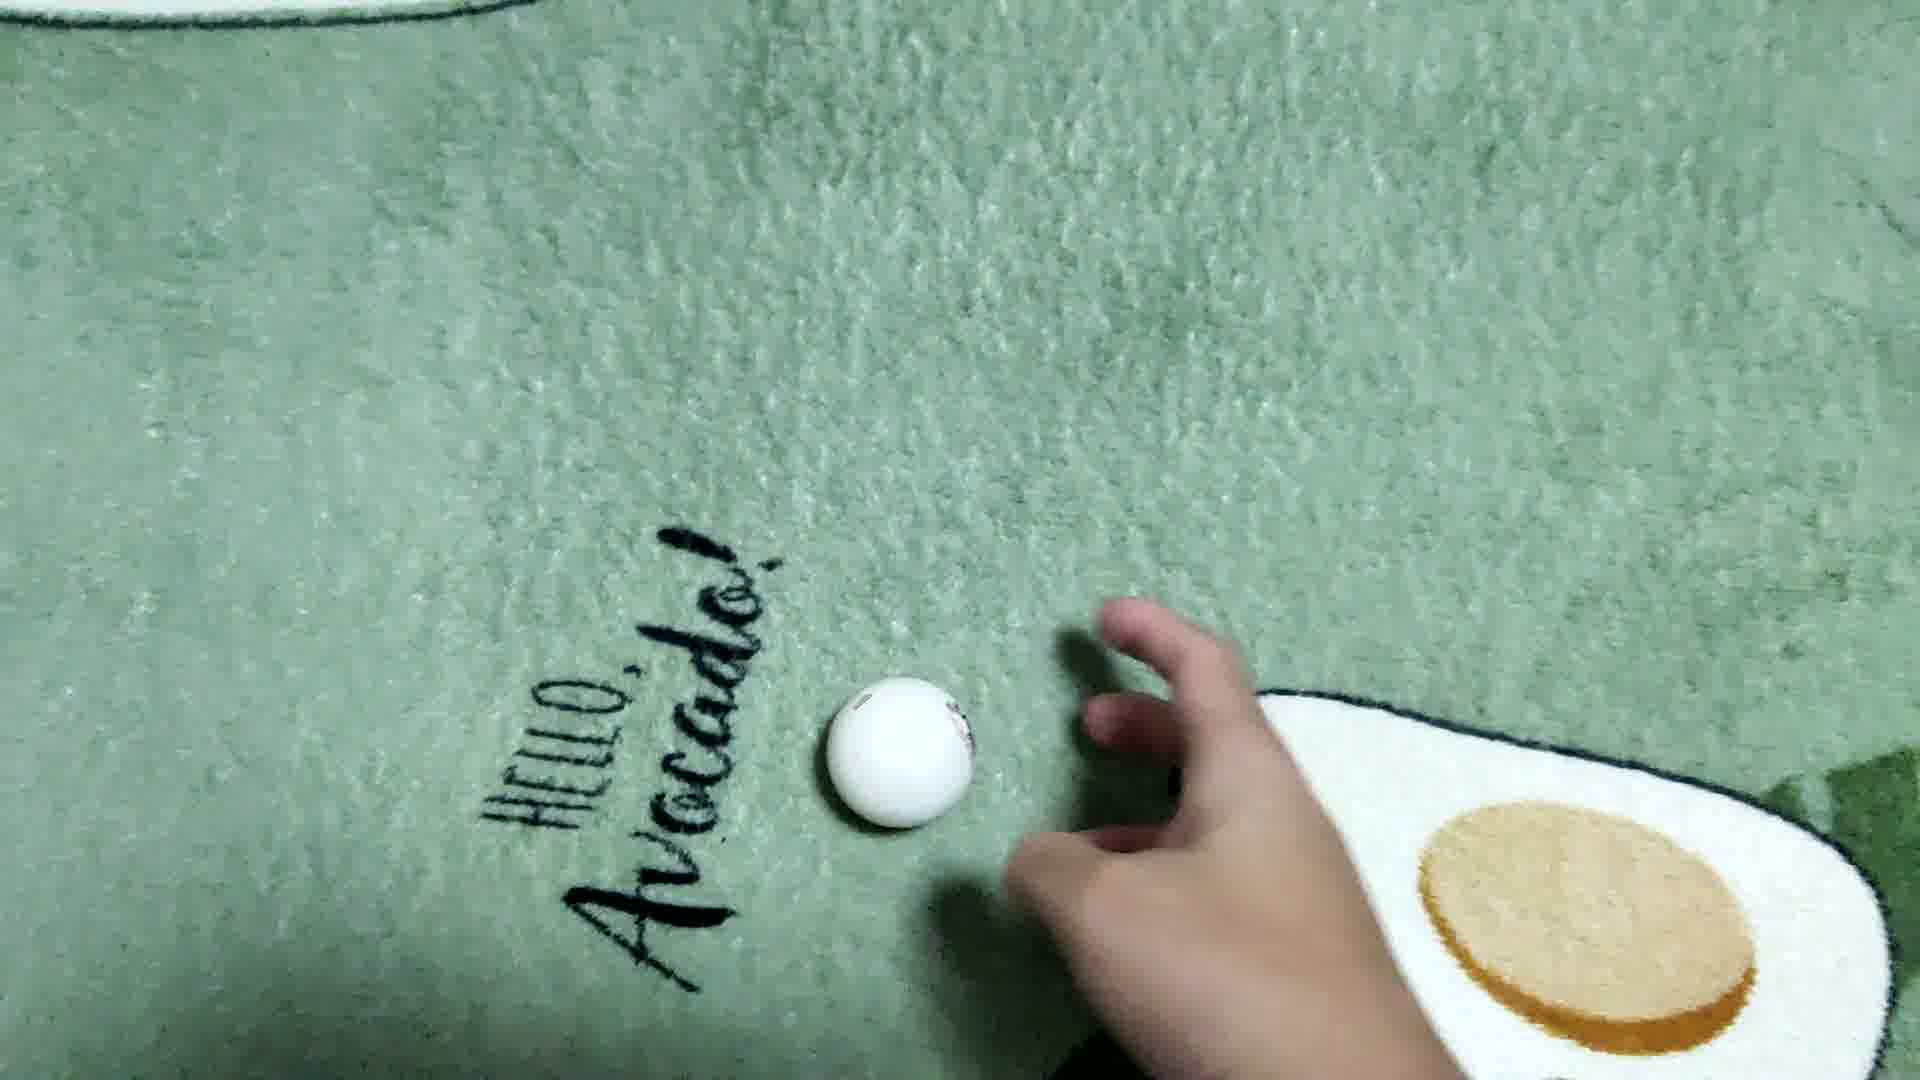Ball: (820, 679, 988, 832)
